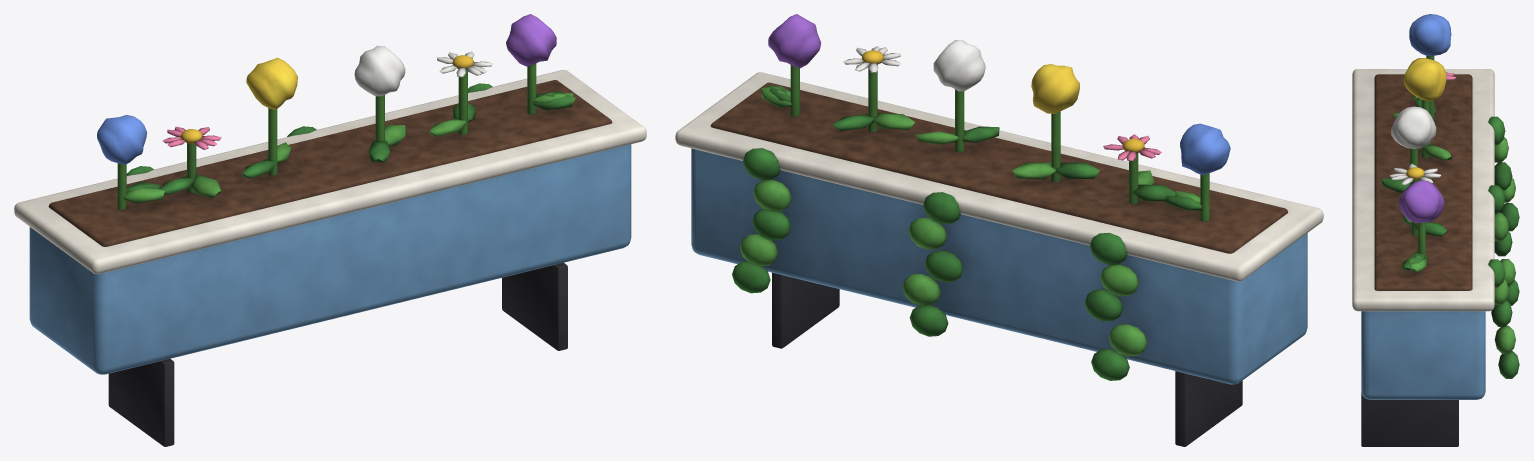
Rendered from WindowFlowerBox.fbx.
3 renders of one model, left to right at view 1: azimuth 30°, elevation 25°; view 2: azimuth 150°, elevation 25°; view 3: azimuth 270°, elevation 25°, orthographic. The views are drawn at different scales.
Visible parts, largest first — view 1: WindowFlowerBox; view 2: WindowFlowerBox; view 3: WindowFlowerBox.
Boxes of the visible parts, <box> form: WindowFlowerBox: <box>14,14,646,446</box>; WindowFlowerBox: <box>675,14,1323,446</box>; WindowFlowerBox: <box>1352,14,1519,446</box>.
Bounding box in the file's own units: 3.1 × 1.73 × 0.94.
Materials: 1 (1 with a texture image).
